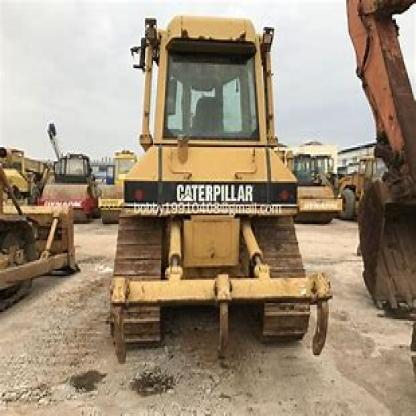bull_dozer/loader/grader: (99, 7, 338, 360)
